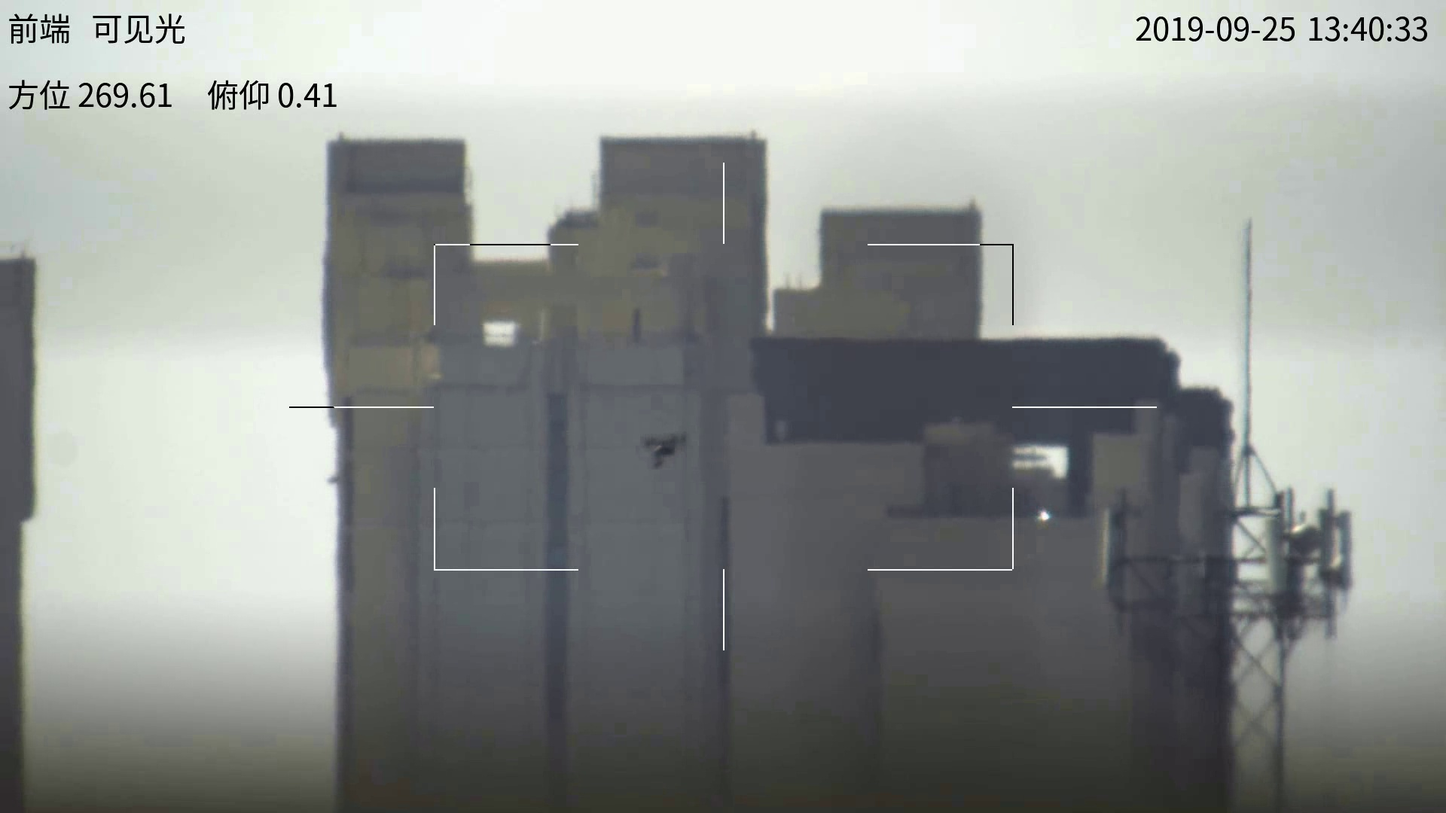drone_other: (639, 426, 697, 471)
